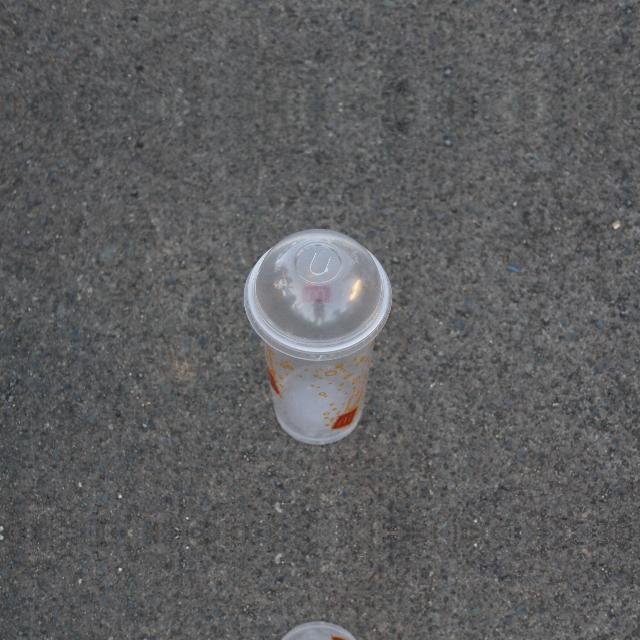Plastic: (242, 226, 394, 446), (242, 619, 393, 640)
